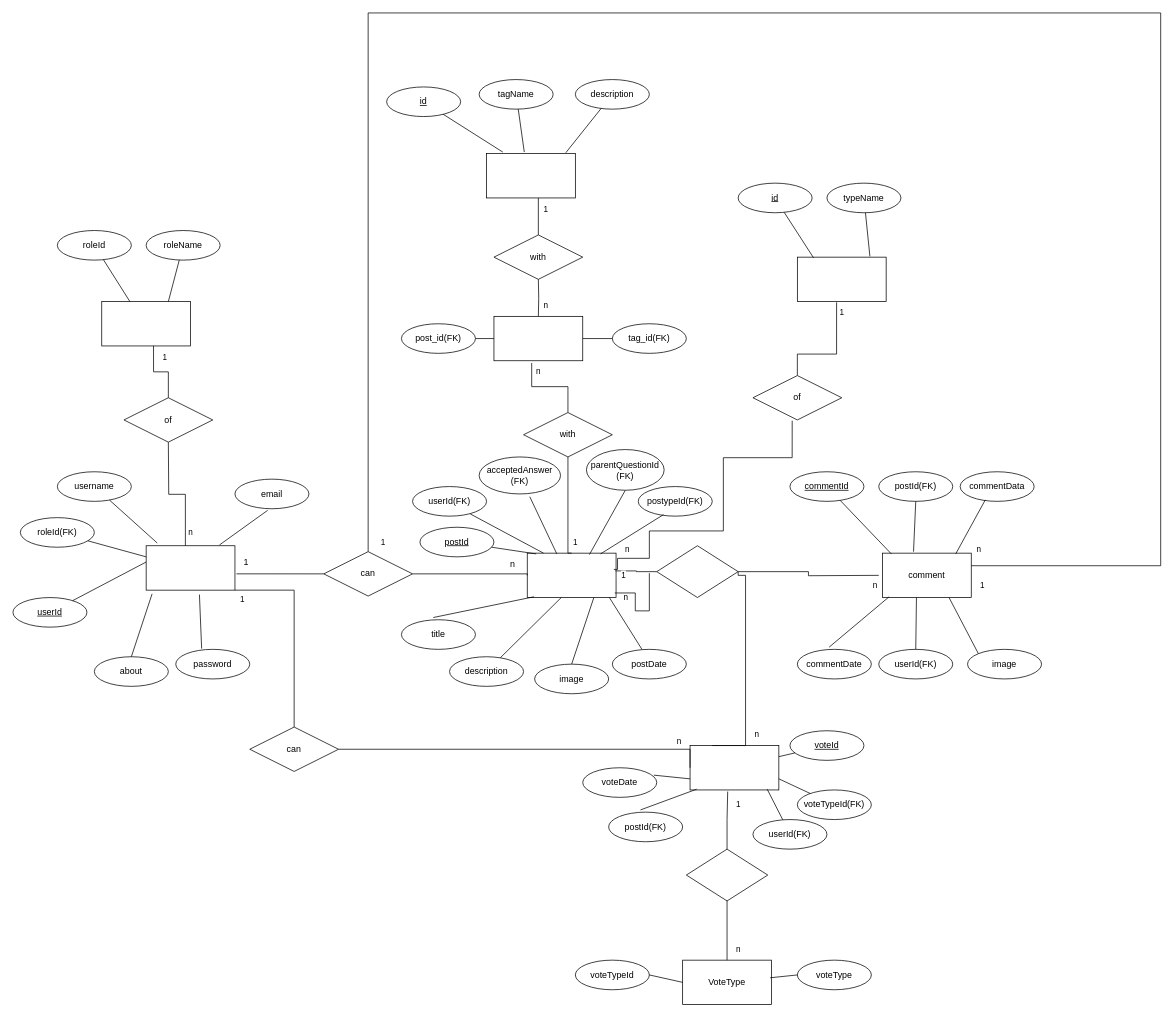
The diagram is 1174 pixels wide and 1018 high, and some of its shapes have lost their labels. The box of each missing label's shape, as (x1, y1, x2, y2) in pixels:
Can be: (686, 848, 768, 901)
have: (656, 545, 738, 598)
post: (527, 552, 616, 598)
post_tag: (493, 316, 583, 361)
post_type: (797, 256, 886, 302)
role: (101, 301, 191, 346)
tag: (486, 153, 575, 198)
user: (145, 545, 235, 590)
Votes: (689, 745, 779, 790)
